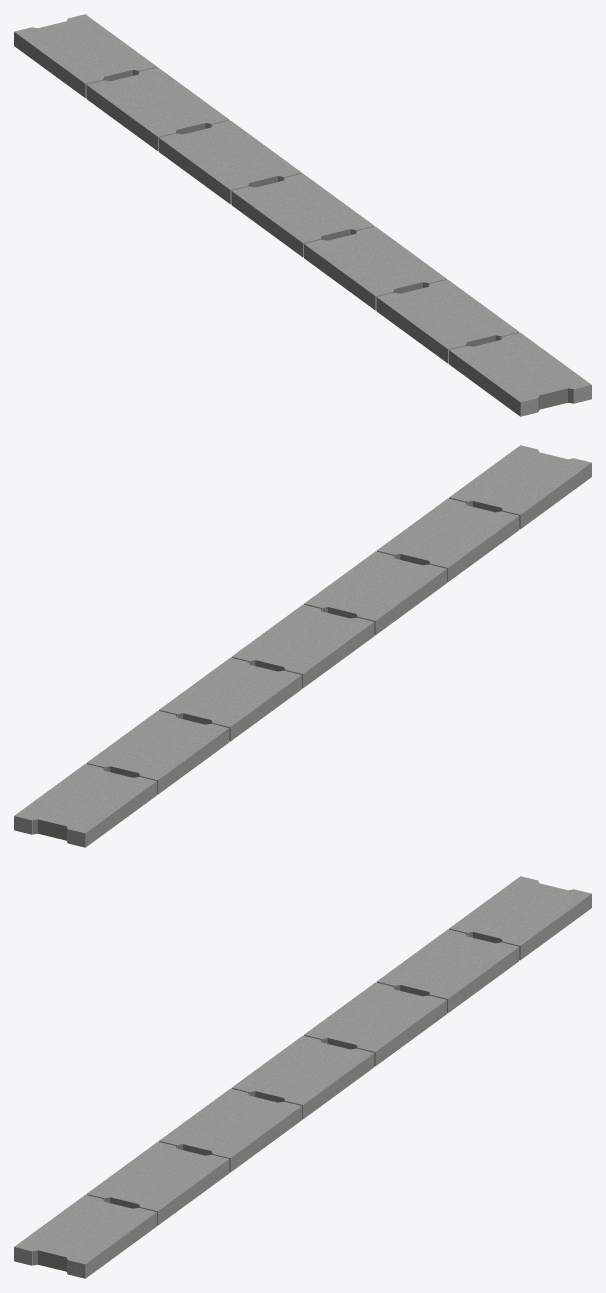
File: kd_stage_135d18_1_6.glb
3 renders of one model, top to bottom at view 1: azimuth 30°, elevation 25°; view 2: azimuth 150°, elevation 25°; view 3: azimuth 330°, elevation 25°, orthographic.
Parts seen in each view (by area): view 1: kd_stage_135d18_1_6; view 2: kd_stage_135d18_1_6; view 3: kd_stage_135d18_1_6.
Part boxes in pixels (x1,y1,x2,y2): kd_stage_135d18_1_6: (14, 14, 591, 416); kd_stage_135d18_1_6: (14, 445, 591, 847); kd_stage_135d18_1_6: (14, 876, 591, 1278).
Bounding box in the file's own units: 0.39 × 0.075 × 4.79.
Materials: 1 (1 with a texture image).
